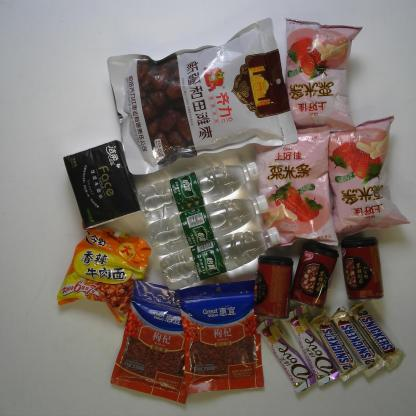Canned Food: (289, 238, 341, 310), (340, 236, 386, 304), (253, 254, 294, 321)
Chocolate: (256, 317, 320, 394), (284, 304, 340, 386), (329, 305, 387, 379), (308, 308, 365, 383), (348, 301, 406, 372)
Dried Food: (106, 16, 300, 176)
Dried Fruit: (110, 279, 192, 405), (178, 278, 265, 396)
Drink: (159, 226, 281, 291), (146, 193, 270, 256), (137, 160, 260, 223)
Instant Noodles: (56, 222, 152, 324)
Puffed Food: (324, 114, 411, 238), (254, 124, 338, 250), (284, 16, 364, 134)
Tissue: (61, 139, 142, 231)
